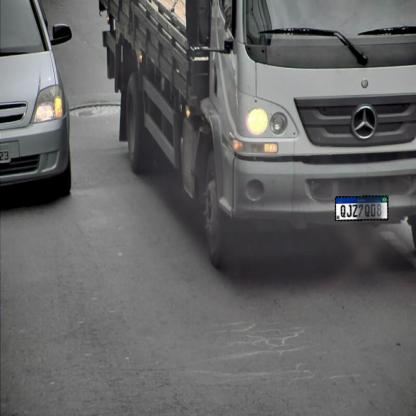PlacaM: (335, 196, 388, 221)
